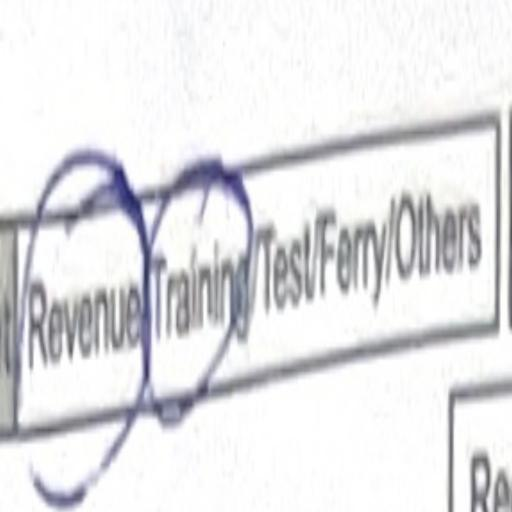check: (26, 175, 146, 480), (150, 146, 254, 452)
